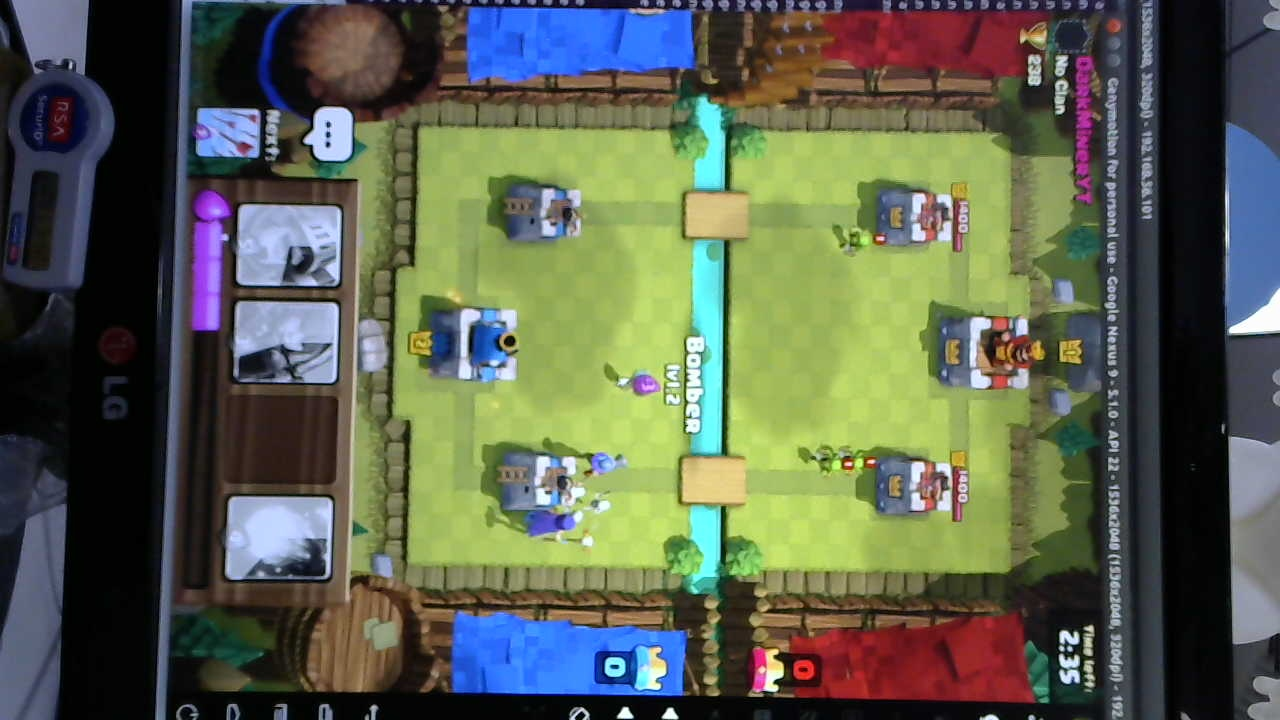arena: (499, 179, 586, 246), (500, 449, 582, 519)
earena: (875, 453, 961, 520), (874, 183, 958, 243)
eking: (940, 311, 1048, 393)
goblin: (838, 223, 880, 257)
goblins: (810, 445, 880, 478)
king: (428, 298, 520, 389)
musketeer: (572, 445, 631, 482)
skeleton: (570, 484, 615, 532)
witch: (522, 508, 591, 545)
